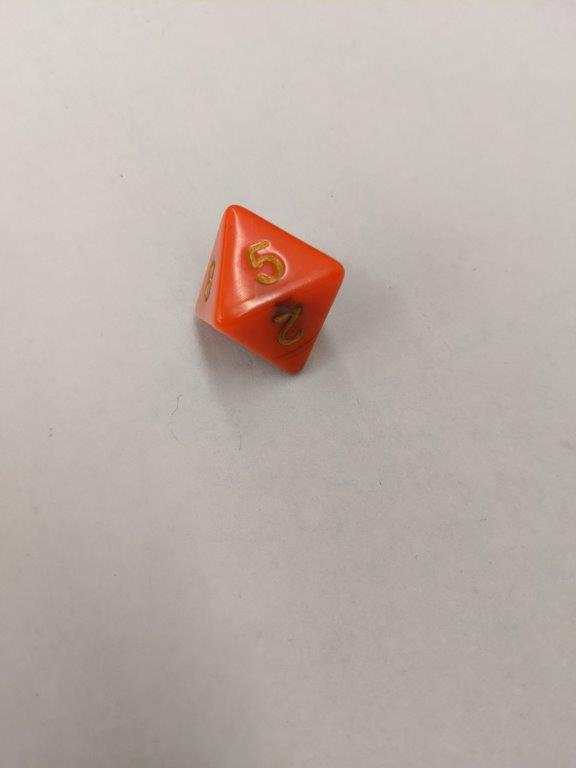d8-5: (192, 201, 347, 377)
